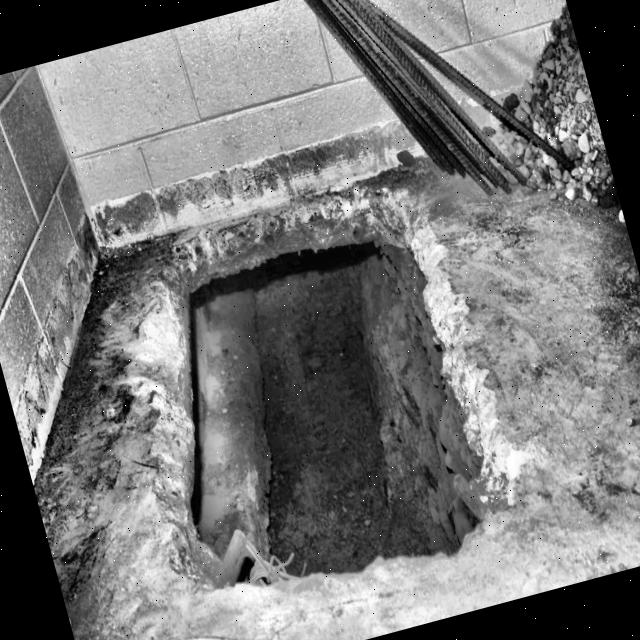pothole: (176, 200, 522, 602)
